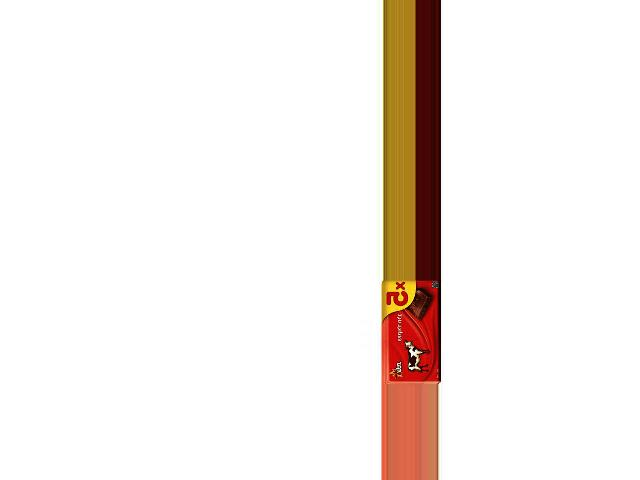chocolate: (379, 280, 440, 385)
